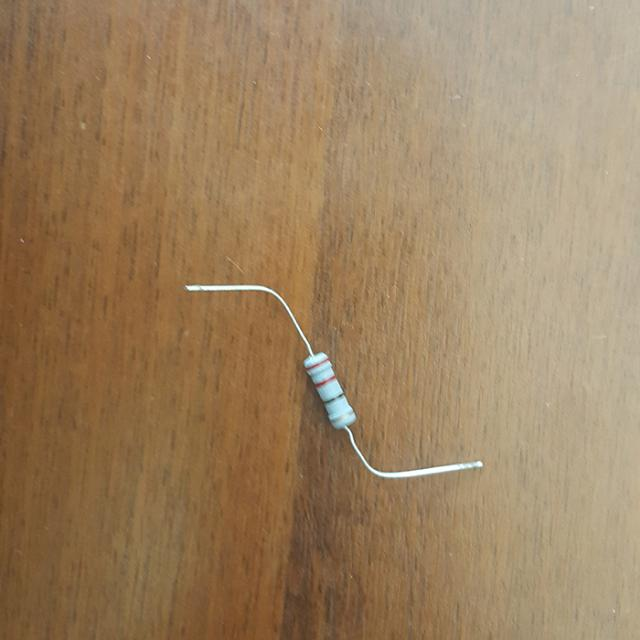brown: (324, 391, 344, 403)
gold: (331, 410, 353, 421)
red: (305, 357, 327, 371), (315, 374, 336, 387)
resistor: (281, 335, 379, 445)
